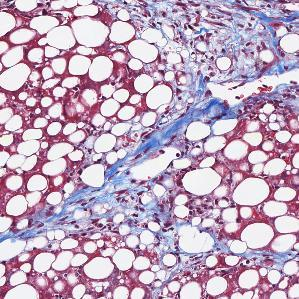fibrosis: (168, 6, 274, 58), (161, 74, 229, 132), (104, 187, 171, 226)
